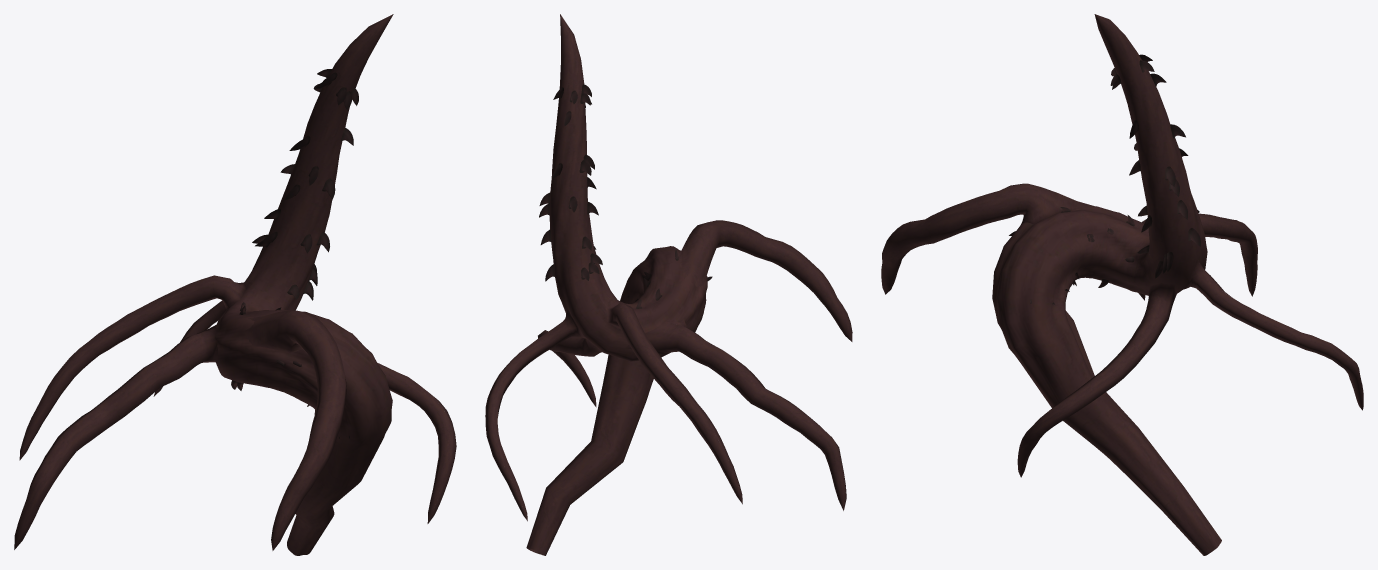
3 views of the same model, side by side, from view 1: azimuth 30°, elevation 25°; view 2: azimuth 150°, elevation 25°; view 3: azimuth 270°, elevation 25° (orthographic). The views are drawn at different scales.
Parts seen in each view (by area): view 1: SM_Spiked_Plant_05_LOD0; view 2: SM_Spiked_Plant_05_LOD0; view 3: SM_Spiked_Plant_05_LOD0.
Boxes of the visible parts, x1=… form: SM_Spiked_Plant_05_LOD0: x1=14, y1=14, x2=456, y2=555; SM_Spiked_Plant_05_LOD0: x1=485, y1=14, x2=852, y2=555; SM_Spiked_Plant_05_LOD0: x1=881, y1=14, x2=1363, y2=555.
Bounding box in the file's own units: 1.11 × 1.56 × 1.23.
1 material, 1 textured.
